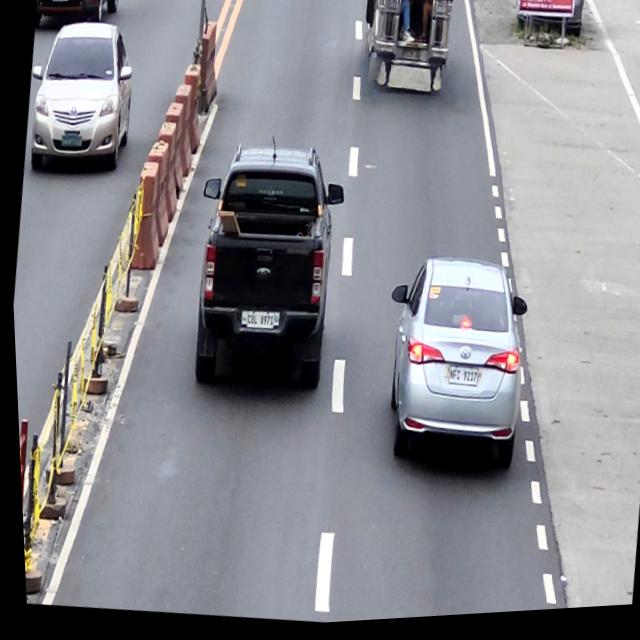Car: (176, 140, 354, 402), (363, 251, 536, 485)
Jeep: (356, 0, 458, 99)
License-Plate: (444, 370, 475, 394), (242, 312, 273, 332), (402, 53, 420, 67)
